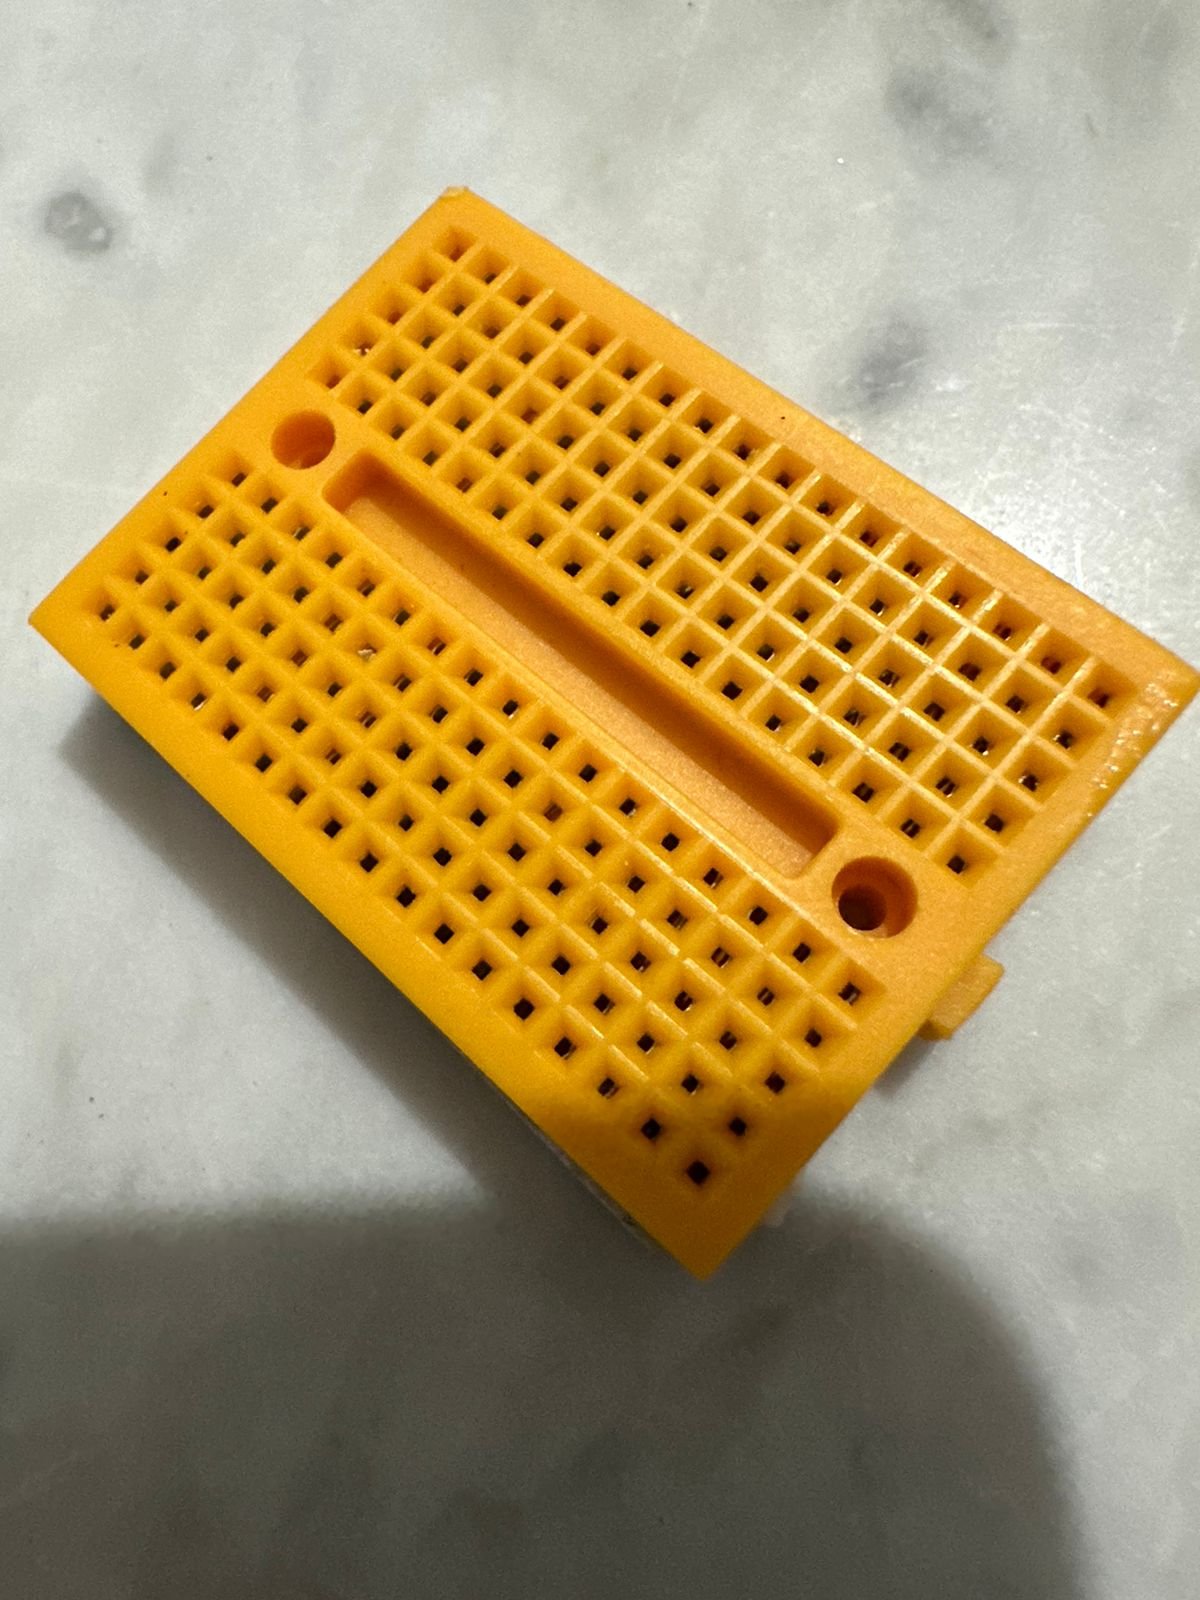breadboard: (24, 152, 1200, 1280)
